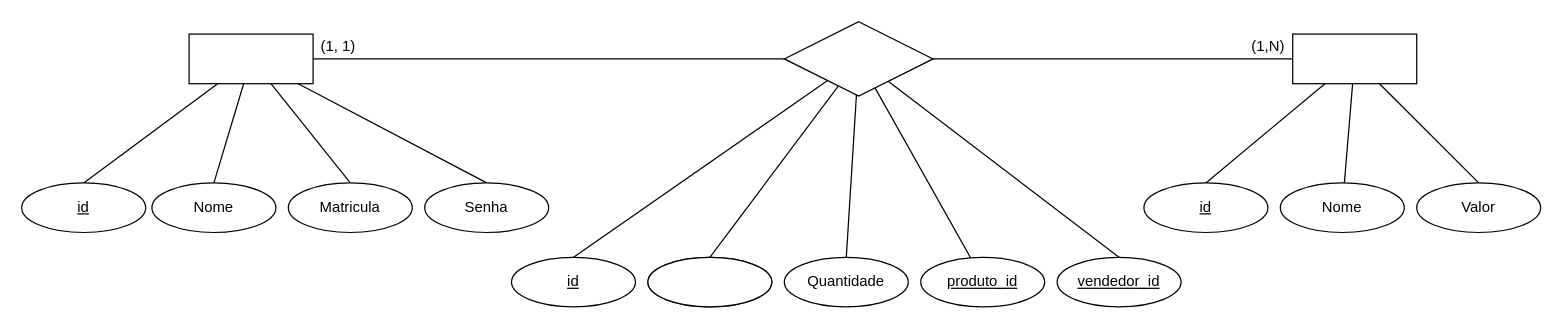
Some shapes in this 1562 by 329 pixel diagram are drawn without their labels. The shapes that lost their labels are listed below. From the top down, each one's box as (x1, y1, x2, y2) in pixels, then its label:
(188, 33, 313, 84): Vendedor
(783, 20, 933, 96): Vendas
(1291, 33, 1417, 84): Produto
(647, 256, 772, 307): data_venda
